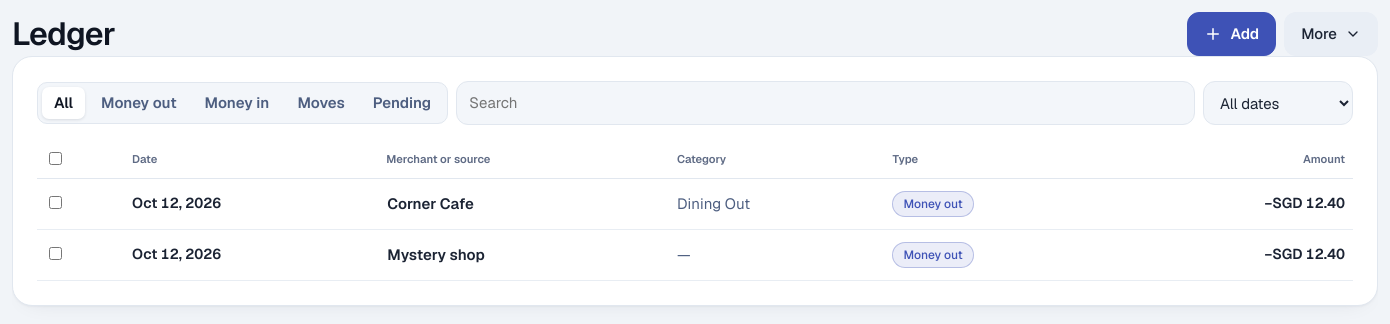
it: the Ledger header › opens More as a menu with Import statement and Export CSV, and closes it on Escape
Expected: the button "Corner Cafe" is shown, x1=386 y1=192 x2=475 y2=216
Click the button "More" at (1331, 34), box x1=1284 y1=12 x2=1378 y2=56
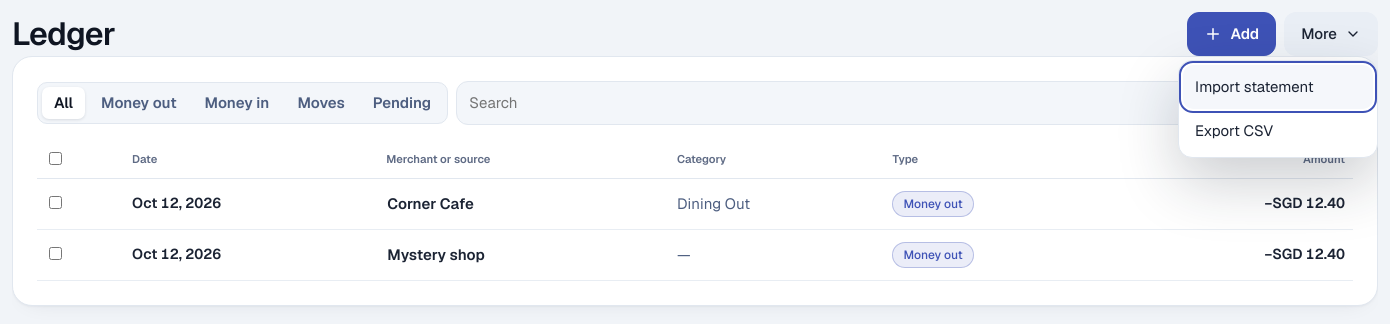
Expected: the menu items read "Import statement", "Export CSV", in this order, x1=1183 y1=65 x2=1373 y2=109; x1=1195 y1=121 x2=1273 y2=140
Press Escape
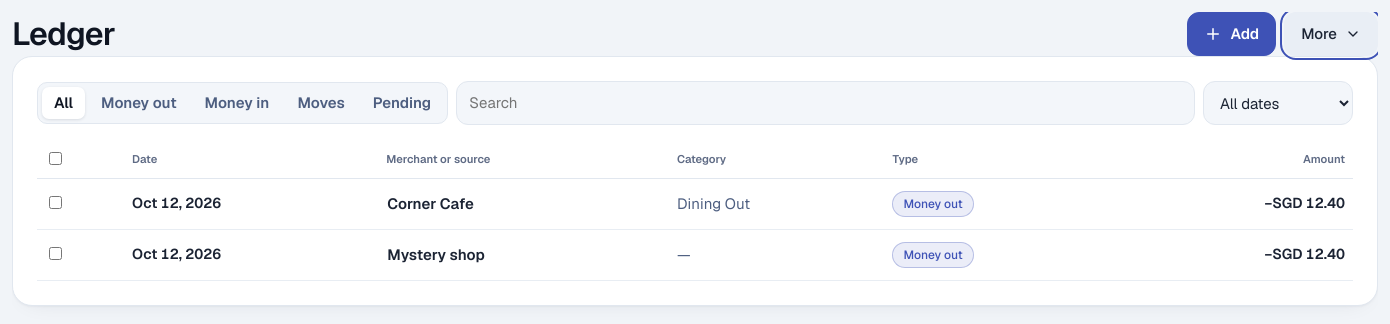
Expected: the menu is gone
